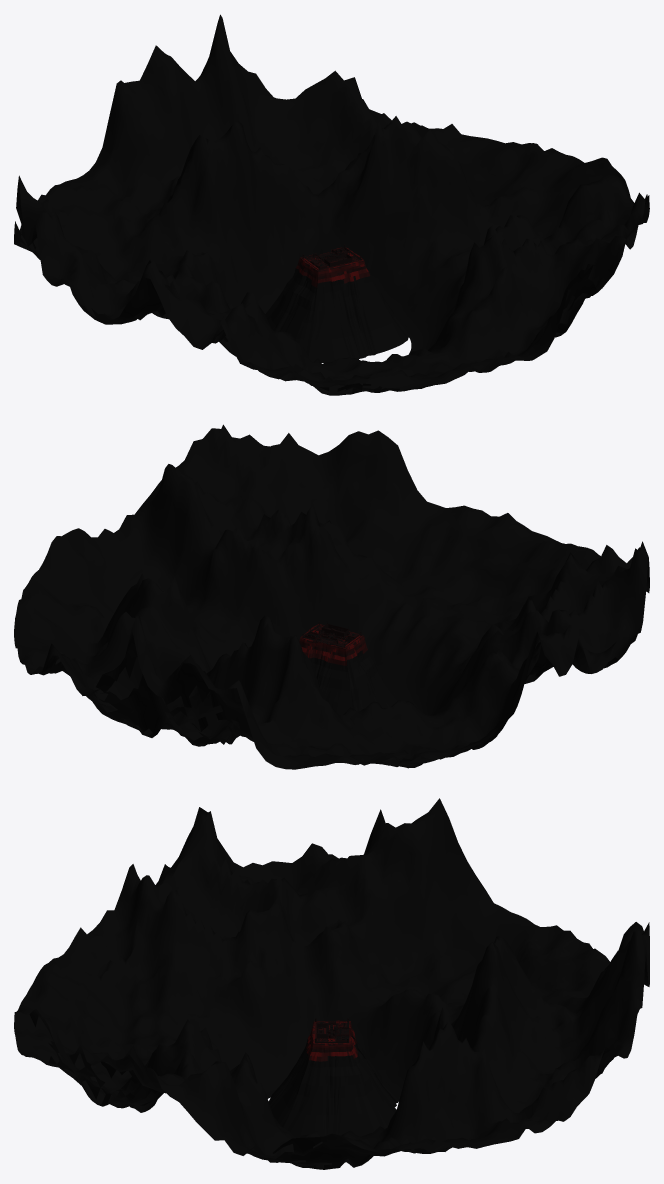
The model's file is setor_zero.glb.
The picture shows the model from 3 angles, top to bottom: view 1: azimuth 30°, elevation 25°; view 2: azimuth 150°, elevation 25°; view 3: azimuth 270°, elevation 25°; orthographic projection.
Parts seen in each view (by area): view 1: sz_liso_rocha_escura_f_sz_1000, sz_liso_rocha_f_sz_997, sz_liso_neve_sombra_f_sz_996, sz_liso_rocha_clara_f_sz_999, sz_liso_neve_f_sz_995, sz_liso_rocha_azul_f_sz_998; view 2: sz_liso_rocha_escura_f_sz_1000, sz_liso_rocha_f_sz_997, sz_liso_neve_sombra_f_sz_996, sz_liso_rocha_clara_f_sz_999, sz_liso_rocha_azul_f_sz_998, sz_liso_neve_f_sz_995, sz_rocha_f_sz_991; view 3: sz_liso_rocha_escura_f_sz_1000, sz_liso_rocha_f_sz_997, sz_liso_neve_sombra_f_sz_996, sz_liso_rocha_clara_f_sz_999, sz_liso_neve_f_sz_995, sz_liso_rocha_azul_f_sz_998.
Part boxes in pixels (left/top/right/bottom): sz_liso_rocha_escura_f_sz_1000: left=20, top=71, right=606, bottom=395; sz_liso_rocha_f_sz_997: left=19, top=67, right=632, bottom=394; sz_liso_neve_sombra_f_sz_996: left=14, top=14, right=649, bottom=346; sz_liso_rocha_clara_f_sz_999: left=62, top=99, right=617, bottom=391; sz_liso_neve_f_sz_995: left=27, top=45, right=649, bottom=379; sz_liso_rocha_azul_f_sz_998: left=20, top=114, right=588, bottom=393; sz_liso_rocha_escura_f_sz_1000: left=20, top=446, right=607, bottom=768; sz_liso_rocha_f_sz_997: left=14, top=441, right=610, bottom=769; sz_liso_neve_sombra_f_sz_996: left=46, top=424, right=649, bottom=740; sz_liso_rocha_clara_f_sz_999: left=49, top=435, right=639, bottom=745; sz_liso_rocha_azul_f_sz_998: left=17, top=472, right=616, bottom=766; sz_liso_neve_f_sz_995: left=43, top=431, right=649, bottom=715; sz_rocha_f_sz_991: left=299, top=625, right=367, bottom=665; sz_liso_rocha_escura_f_sz_1000: left=14, top=834, right=625, bottom=1168; sz_liso_rocha_f_sz_997: left=14, top=837, right=629, bottom=1169; sz_liso_neve_sombra_f_sz_996: left=29, top=798, right=649, bottom=1153; sz_liso_rocha_clara_f_sz_999: left=64, top=836, right=618, bottom=1142; sz_liso_neve_f_sz_995: left=40, top=807, right=649, bottom=1148; sz_liso_rocha_azul_f_sz_998: left=18, top=898, right=606, bottom=1167.
Bounding box in the file's own units: 2000 × 723 × 2000.
1 material, 1 textured.
